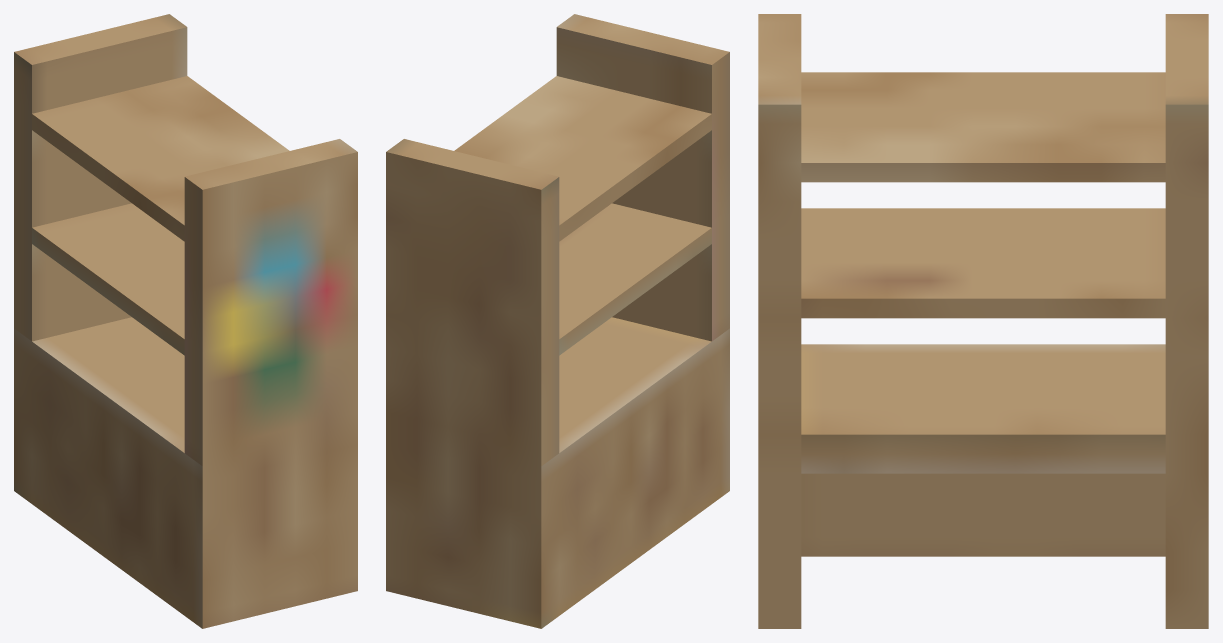
Rendered from BookshelfHShapedBirch_00.obj.
The picture shows the model from 3 angles, left to right: view 1: azimuth 30°, elevation 25°; view 2: azimuth 150°, elevation 25°; view 3: azimuth 270°, elevation 25°; orthographic projection. The views are drawn at different scales.
Parts seen in each view (by area): view 1: BookshelfHShapedBirch_00; view 2: BookshelfHShapedBirch_00; view 3: BookshelfHShapedBirch_00.
Boxes of the visible parts, x1,y1,x2,y2 form: BookshelfHShapedBirch_00: (14,14,357,628); BookshelfHShapedBirch_00: (386,14,729,628); BookshelfHShapedBirch_00: (758,14,1208,628).
Bounding box in the file's own units: 0.5 × 1.35 × 1.05.
